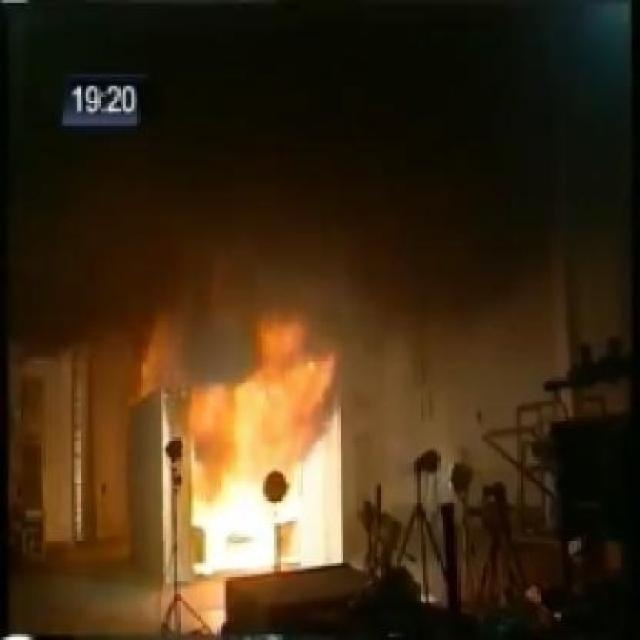fire: (140, 292, 347, 542)
